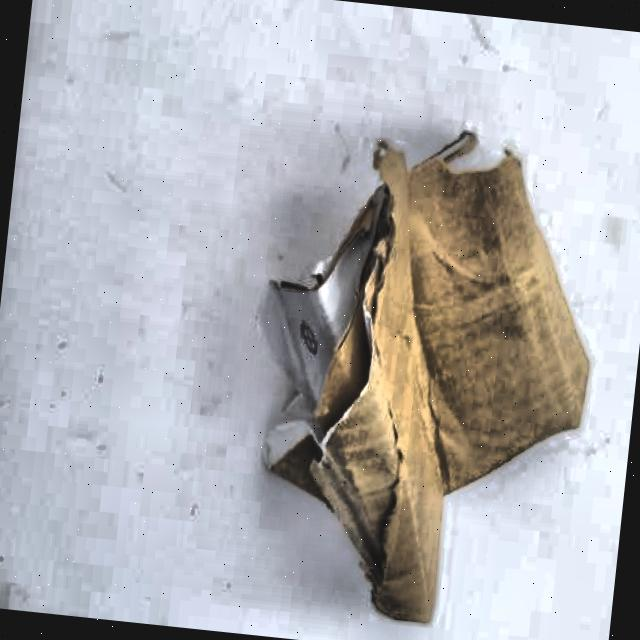cardboard: (244, 108, 616, 640)
